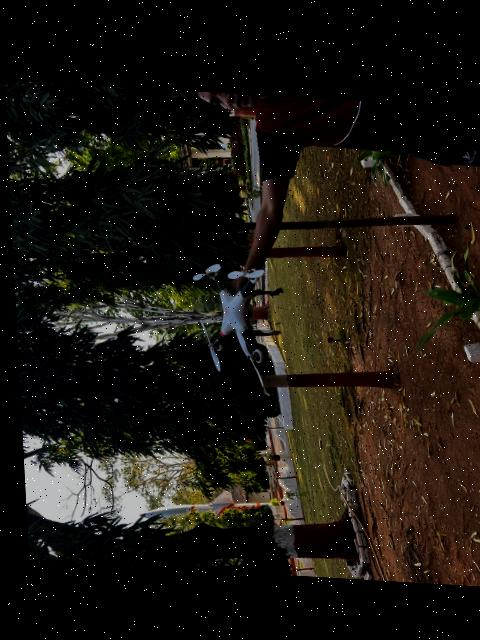drone: (169, 245, 287, 395)
